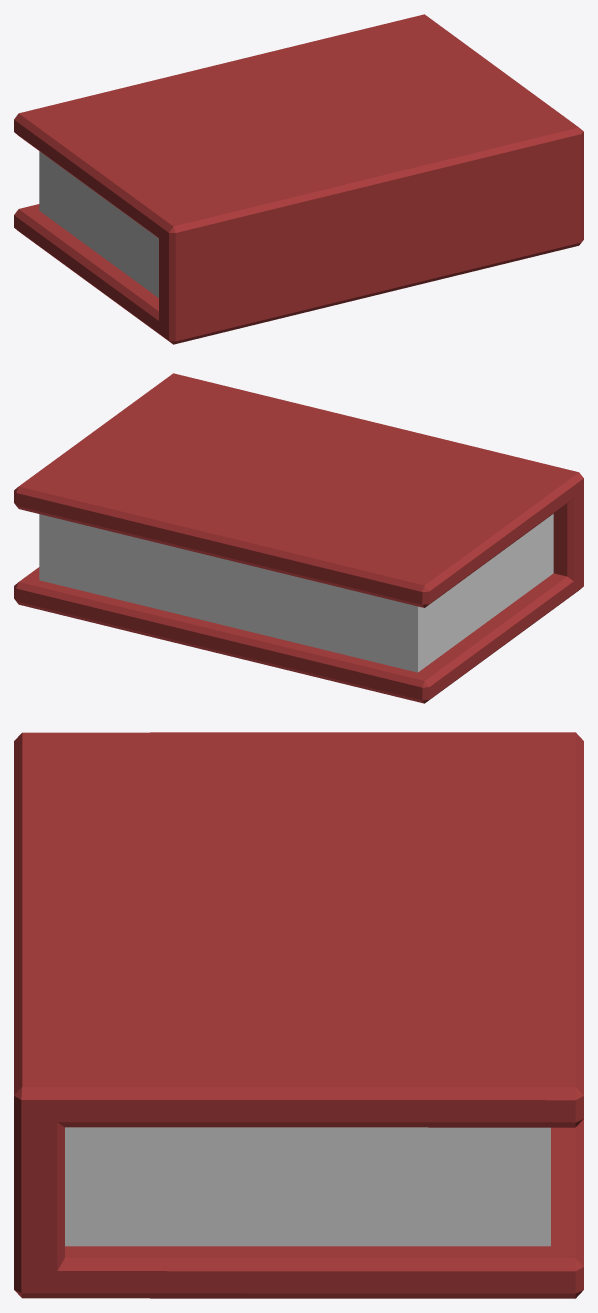
The model's file is red_book.fbx.
The picture shows the model from 3 angles, top to bottom: view 1: azimuth 30°, elevation 25°; view 2: azimuth 150°, elevation 25°; view 3: azimuth 270°, elevation 25°; orthographic projection. The views are drawn at different scales.
Visible parts, largest first — view 1: Red_book; view 2: Red_book; view 3: Red_book.
Boxes of the visible parts, left/top/right/bottom form: Red_book: left=14, top=14, right=583, bottom=344; Red_book: left=14, top=373, right=583, bottom=703; Red_book: left=14, top=732, right=583, bottom=1298.
Size of the model in its own units: 0.8917 by 0.5921 by 0.2425.
